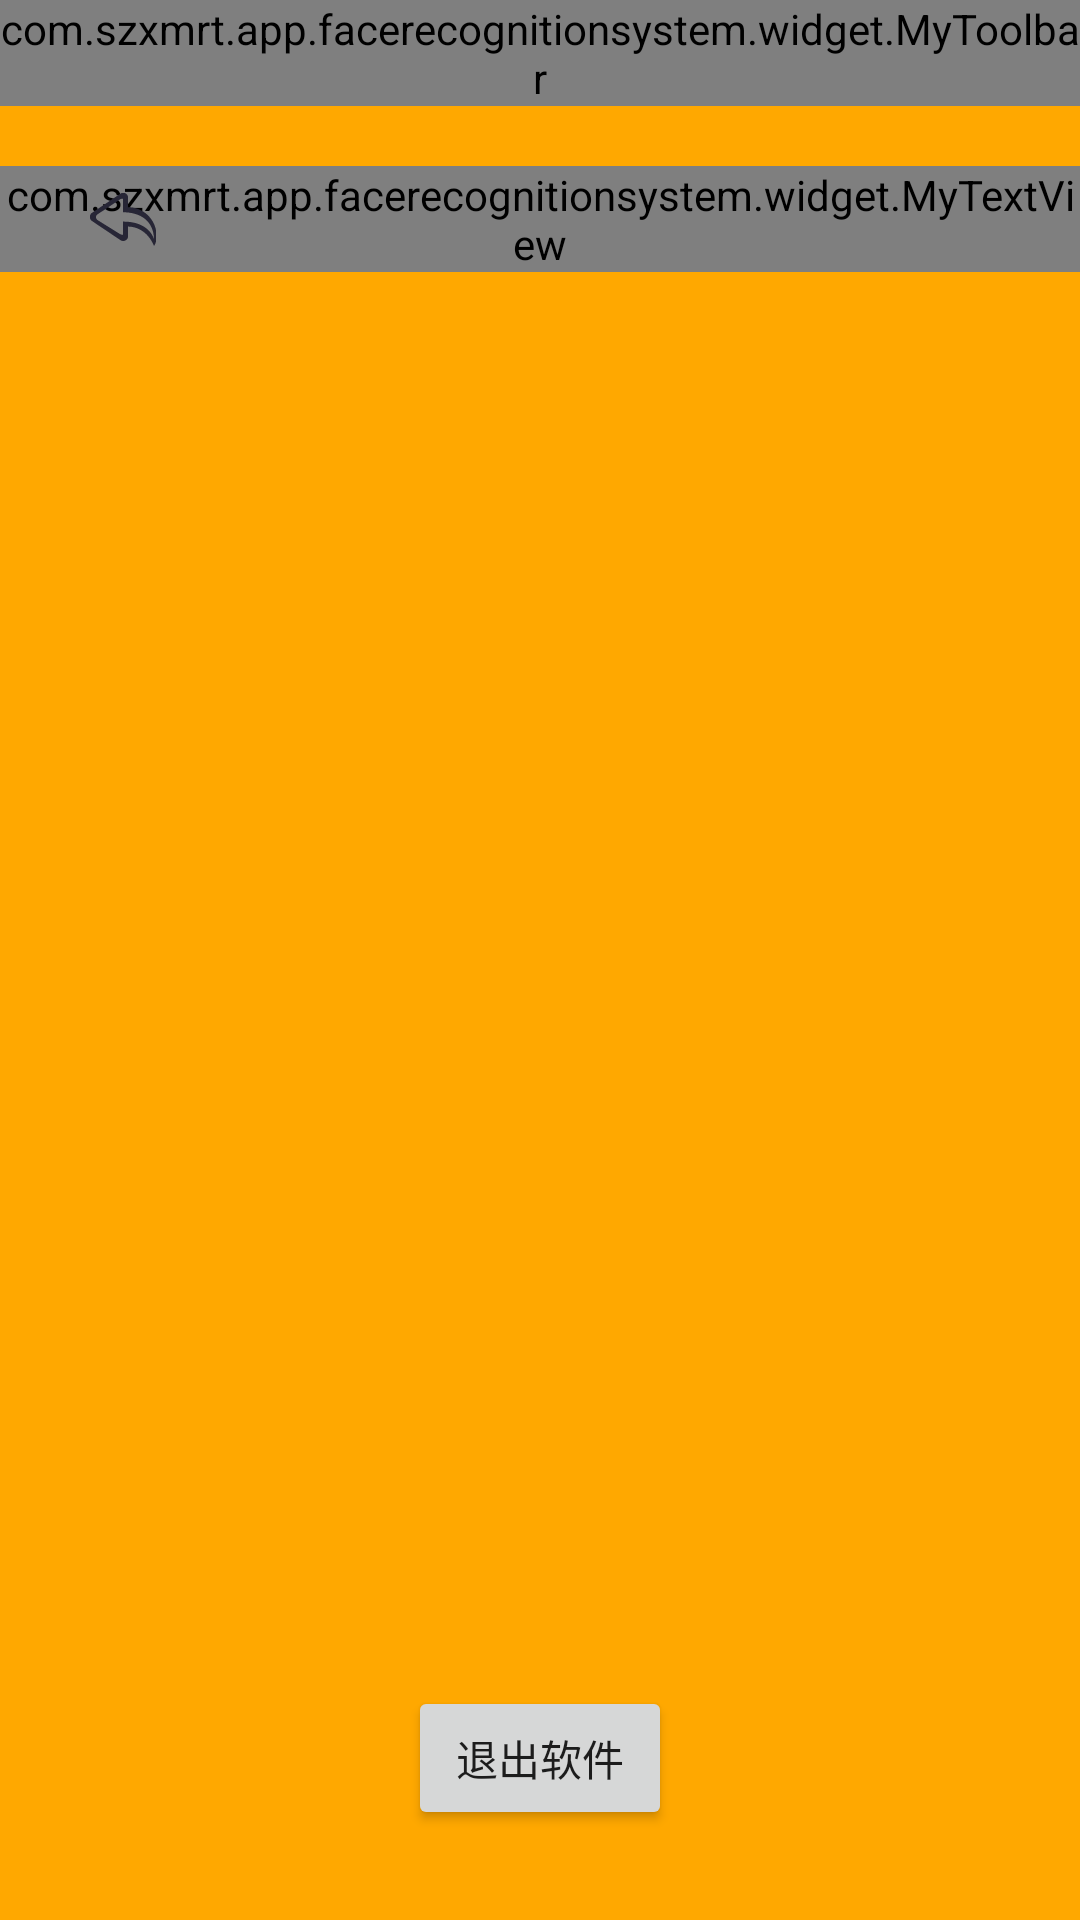

Where to tap for icons on this 1080×1920 app screen, as point (x, y):
back: point (123, 217)
